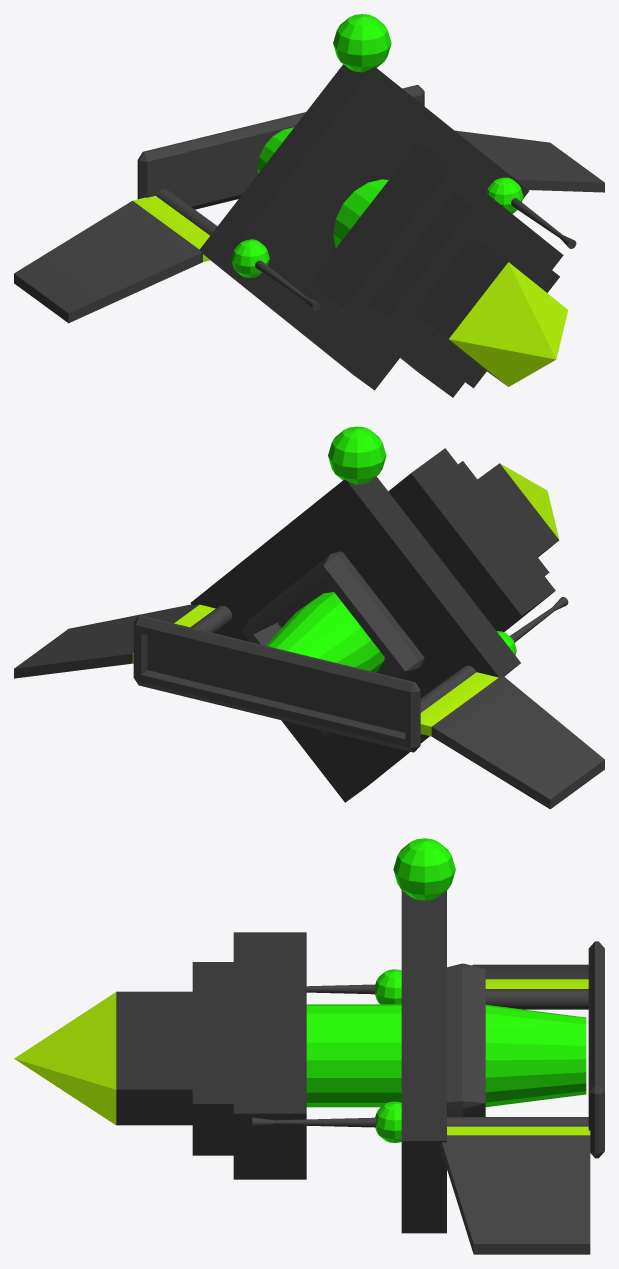
Rendered from Neon Survival Player Ship 1.FBX.
The picture shows the model from 3 angles, top to bottom: view 1: azimuth 30°, elevation 25°; view 2: azimuth 150°, elevation 25°; view 3: azimuth 270°, elevation 25°; orthographic projection. The views are drawn at different scales.
Visible parts, largest first — view 1: Box003, Box002, Box006, Pyramid001, Box001, Box005, Box007, Sphere001, Cylinder001, Sphere002, Cylinder002, Sphere003 (+2 smaller); view 2: Box003, Box005, Box006, Box002, Box004, Box007, Cylinder001, Pyramid001, Sphere001, Box001, Cylinder002, Cylinder003; view 3: Cylinder001, Box002, Box007, Pyramid001, Box003, Box001, Box004, Box005, Sphere001, Box006, Cylinder002, Cylinder003 (+4 smaller).
Boxes of the visible parts, x1,y1,x2,y2 form: Box003: [199, 64, 529, 390]; Box002: [308, 141, 563, 397]; Box006: [14, 196, 210, 323]; Pyramid001: [413, 236, 568, 386]; Box001: [368, 193, 559, 388]; Box005: [137, 84, 424, 209]; Box007: [455, 130, 604, 192]; Sphere001: [333, 14, 391, 72]; Cylinder001: [257, 127, 388, 247]; Sphere002: [231, 239, 269, 277]; Cylinder002: [155, 189, 217, 235]; Sphere003: [486, 177, 523, 213]; Box003: [190, 476, 520, 802]; Box005: [133, 615, 420, 752]; Box006: [420, 672, 604, 809]; Box002: [388, 448, 555, 631]; Box004: [241, 551, 424, 737]; Box007: [14, 604, 215, 678]; Cylinder001: [266, 592, 384, 672]; Pyramid001: [477, 463, 559, 557]; Sphere001: [328, 426, 386, 484]; Box001: [458, 461, 549, 575]; Cylinder002: [420, 665, 476, 712]; Cylinder003: [190, 605, 232, 633]; Cylinder001: [306, 1004, 586, 1107]; Box002: [233, 932, 306, 1179]; Box007: [440, 1126, 590, 1254]; Pyramid001: [14, 991, 192, 1125]; Box003: [401, 890, 446, 1233]; Box001: [192, 962, 233, 1155]; Box004: [447, 963, 485, 1116]; Box005: [588, 941, 604, 1158]; Sphere001: [393, 838, 455, 900]; Box006: [472, 964, 588, 988]; Cylinder002: [485, 989, 588, 1009]; Cylinder003: [447, 1117, 588, 1126].
Size of the model in its own units: 12.68 by 8.28 by 11.33.
